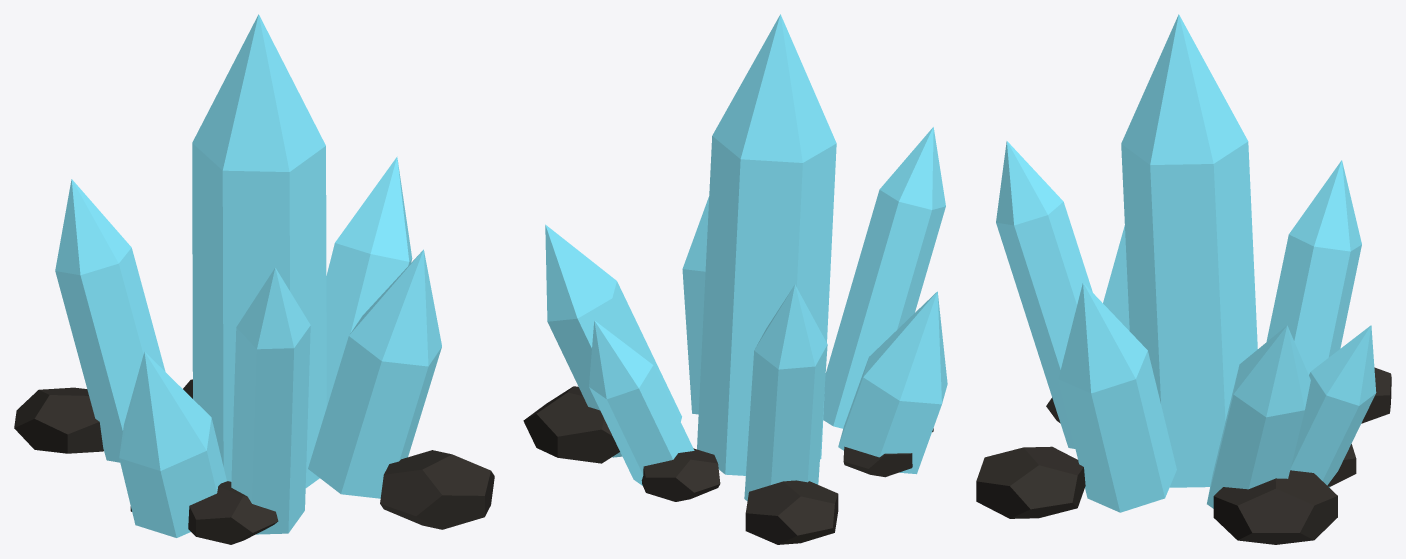
The model's file is materials-mound.glb.
The picture shows the model from 3 angles, left to right: view 1: azimuth 30°, elevation 25°; view 2: azimuth 150°, elevation 25°; view 3: azimuth 270°, elevation 25°; orthographic projection. The views are drawn at different scales.
Parts seen in each view (by area): view 1: crystal, bed; view 2: crystal, bed; view 3: crystal, bed.
Boxes of the visible parts, box(x1,y1,x2,y2) form: crystal: box(55, 14, 441, 537); bed: box(14, 379, 494, 544); crystal: box(545, 14, 947, 501); bed: box(523, 386, 933, 544); crystal: box(996, 14, 1376, 512); bed: box(976, 367, 1391, 544).
Bounding box in the file's own units: 0.7001 × 0.8544 × 0.7173.
